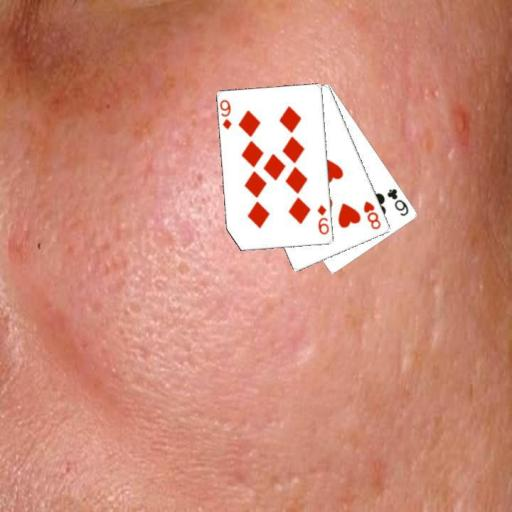6C: (384, 186, 410, 218)
8H: (361, 198, 383, 231)
9D: (314, 202, 330, 236), (219, 97, 234, 131)
